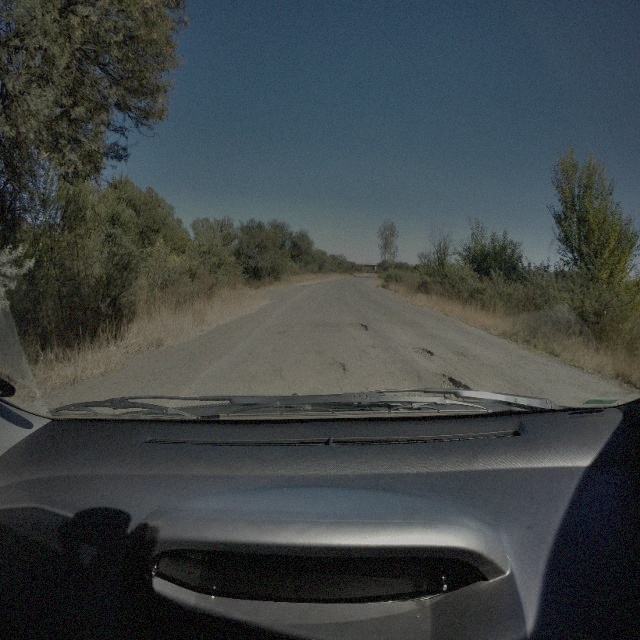pothole: (434, 368, 464, 388), (411, 344, 433, 357), (346, 320, 368, 331)
